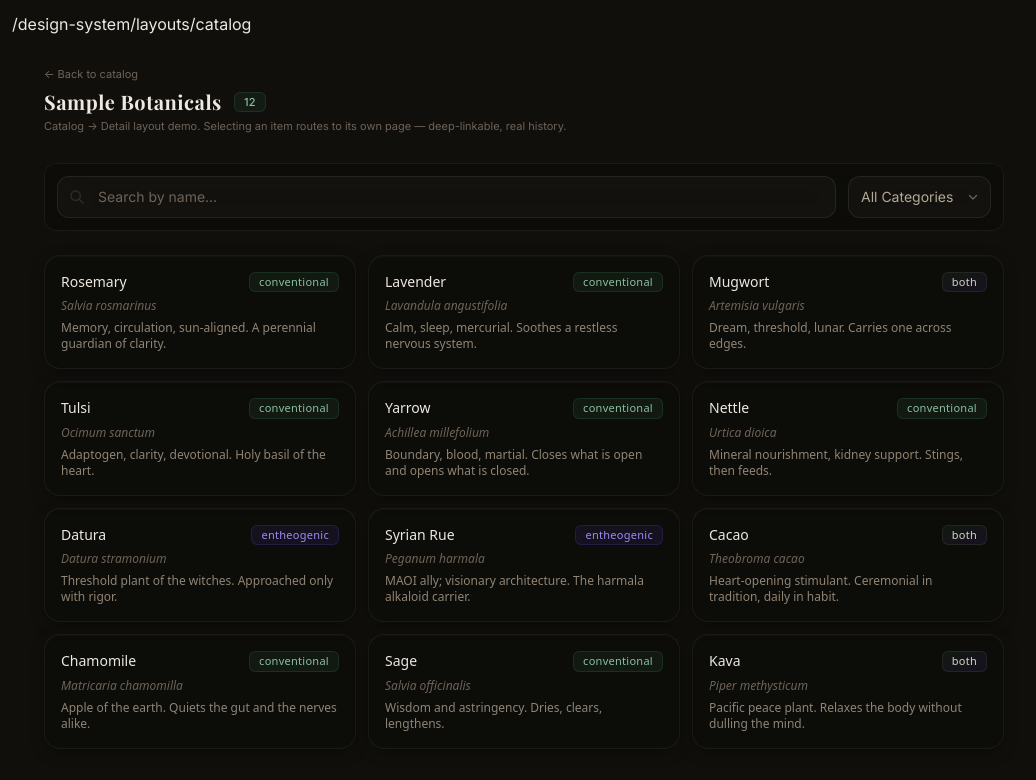
CatalogDemo — composes the canonical Catalog layout with FilterBar › search keystrokes synchronize into the URL
Type "mug" into the search field labelled "Search by name…" at (446, 196), box [57, 176, 836, 218]
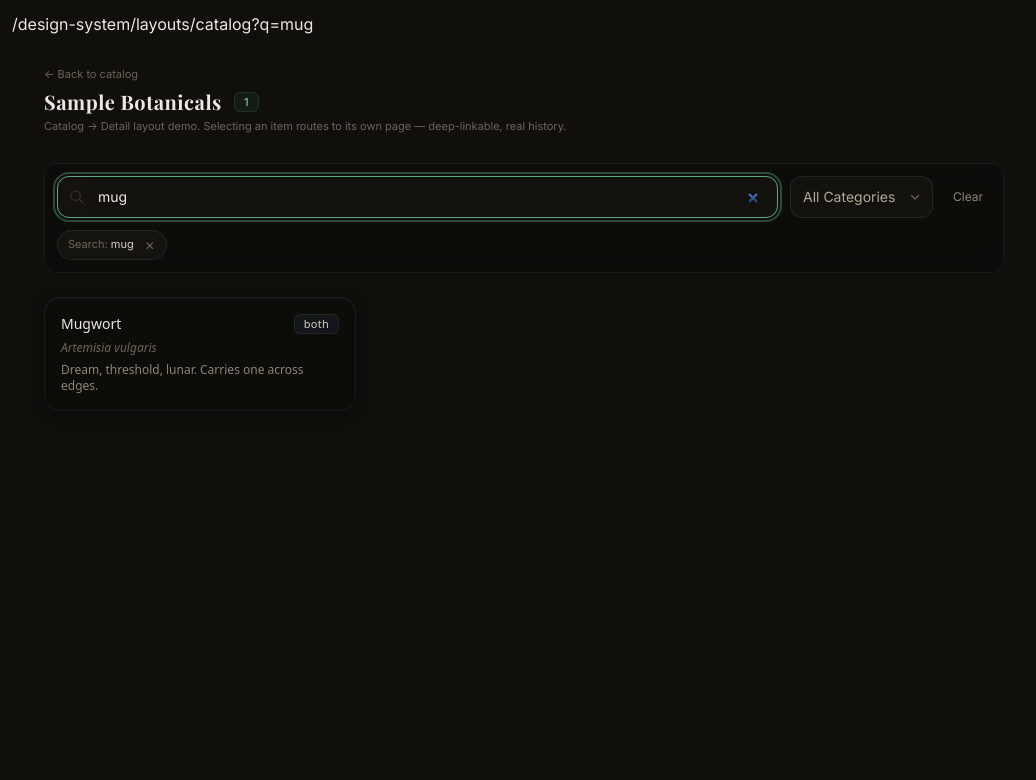
Check: the text with test id "location-probe" shows "q=mug", box [12, 14, 313, 34]
